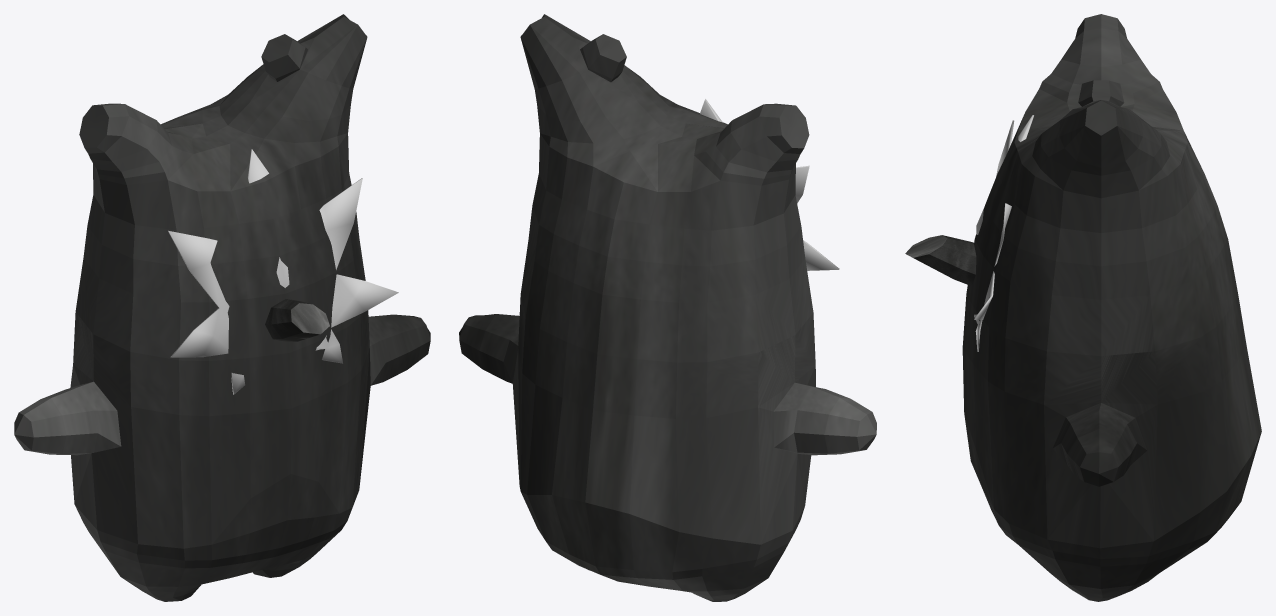
Rendered from frame_0009.obj.
3 views of the same model, side by side, from view 1: azimuth 30°, elevation 25°; view 2: azimuth 150°, elevation 25°; view 3: azimuth 270°, elevation 25° (orthographic).
Parts seen in each view (by area): view 1: korok, leaf.003_柱体.013, nose.003_柱体.011; view 2: korok, leaf.003_柱体.013; view 3: korok, nose.003_柱体.011, leaf.003_柱体.013.
Boxes of the visible parts, x1,y1,x2,y2 form: korok: (14, 14, 430, 601); leaf.003_柱体.013: (168, 149, 398, 394); nose.003_柱体.011: (265, 299, 329, 341); korok: (459, 14, 876, 601); leaf.003_柱体.013: (700, 99, 839, 270); korok: (962, 14, 1261, 601); nose.003_柱体.011: (905, 235, 976, 286); leaf.003_柱体.013: (974, 115, 1033, 351).
Bounding box in the file's own units: 1.92 × 2.38 × 1.44.
